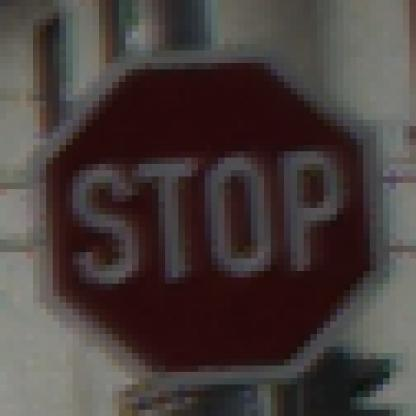stop: (25, 81, 404, 375)
